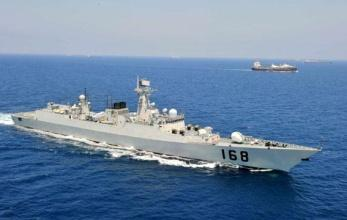warship: (13, 83, 322, 171)
